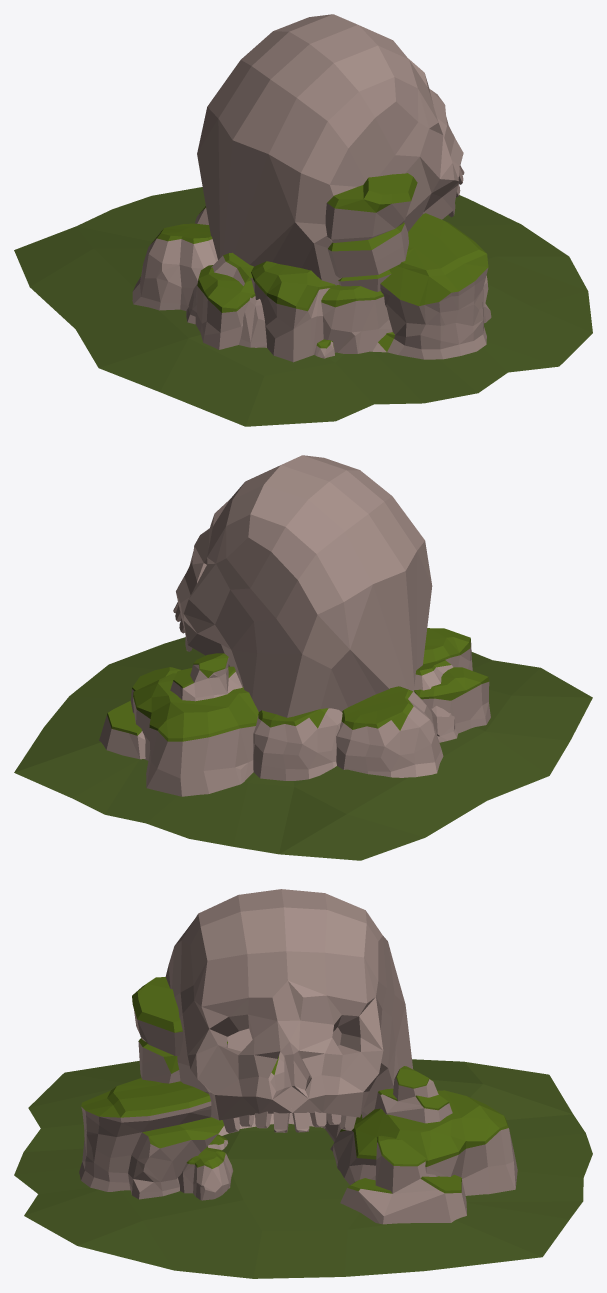
Rendered from Skull Cave_2.fbx.
3 renders of one model, top to bottom at view 1: azimuth 30°, elevation 25°; view 2: azimuth 150°, elevation 25°; view 3: azimuth 270°, elevation 25°, orthographic. The views are drawn at different scales.
Visible parts, largest first — view 1: Skull Cave_2; view 2: Skull Cave_2; view 3: Skull Cave_2.
Part boxes in pixels (x1,y1,x2,y2): Skull Cave_2: [14, 14, 592, 426]; Skull Cave_2: [14, 455, 592, 860]; Skull Cave_2: [14, 889, 592, 1278].
Bounding box in the file's own units: 34.51 × 19.15 × 36.34.
